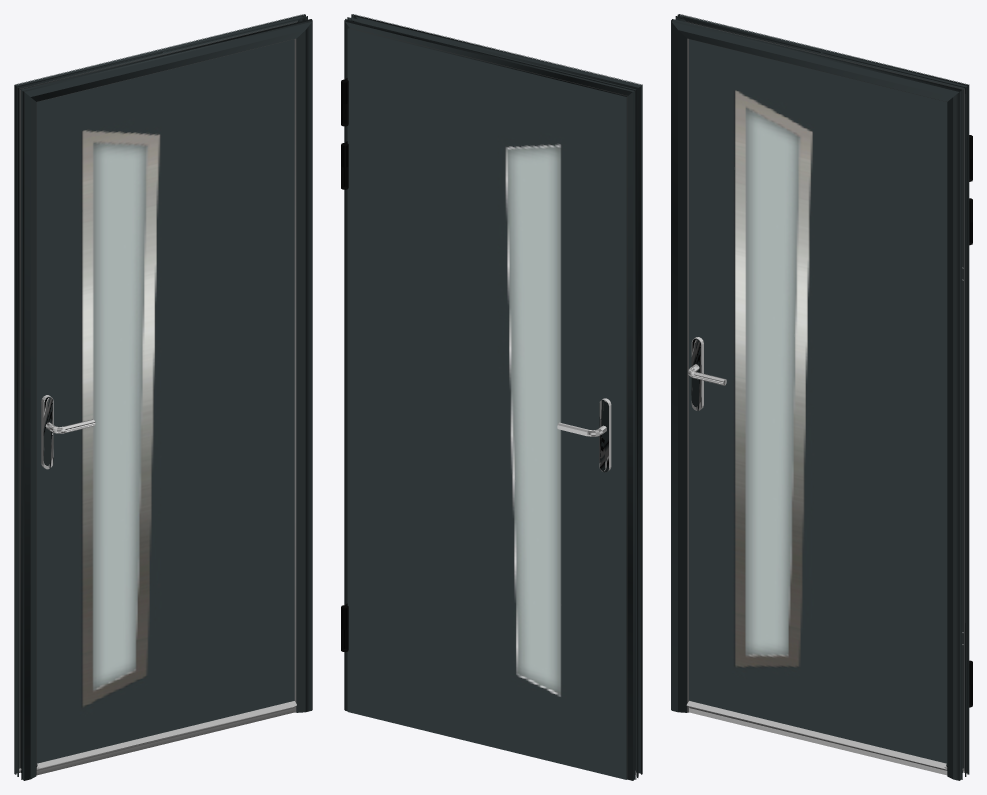
3 renders of one model, left to right at view 1: azimuth 30°, elevation 25°; view 2: azimuth 150°, elevation 25°; view 3: azimuth 330°, elevation 25°, orthographic.
Visible parts, largest first — view 1: ouvrant, 50, puxador; view 2: ouvrant, 50, puxador; view 3: ouvrant, 50, puxador.
Part boxes in pixels (<box>): ouvrant: <box>19,21,297,770</box>; 50: <box>14,14,312,780</box>; puxador: <box>41,395,53,469</box>; ouvrant: <box>341,28,627,779</box>; 50: <box>341,14,642,780</box>; puxador: <box>599,398,611,472</box>; ouvrant: <box>685,21,972,770</box>; 50: <box>671,14,972,780</box>; puxador: <box>691,337,703,410</box>.
Bounding box in the file's own units: 96 × 218 × 19.09.
Materials: 1 (1 with a texture image).
